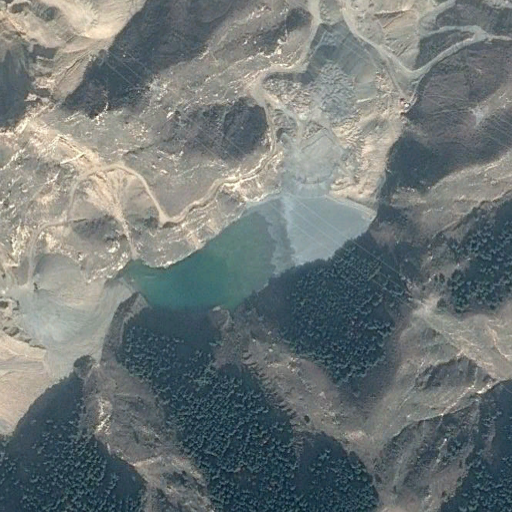tp: (115, 186, 377, 322)
